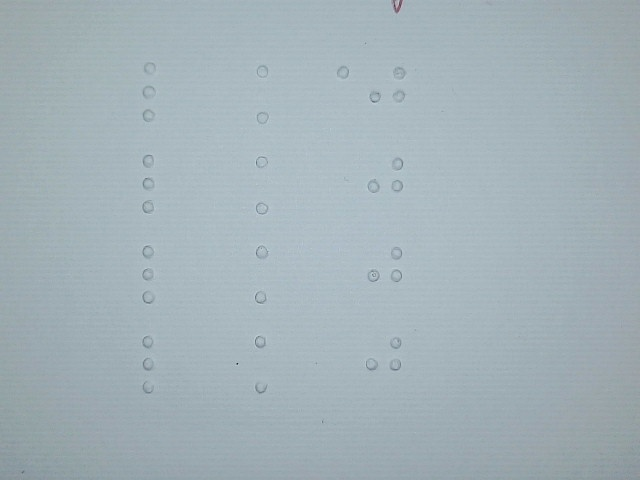J: (366, 56, 407, 119), (365, 147, 406, 210), (364, 236, 405, 299), (363, 325, 404, 388)
K: (248, 63, 289, 126), (250, 154, 291, 217), (249, 242, 290, 305), (247, 332, 288, 395)
L: (136, 60, 177, 123), (134, 152, 175, 215), (134, 243, 175, 306), (134, 332, 175, 395)
